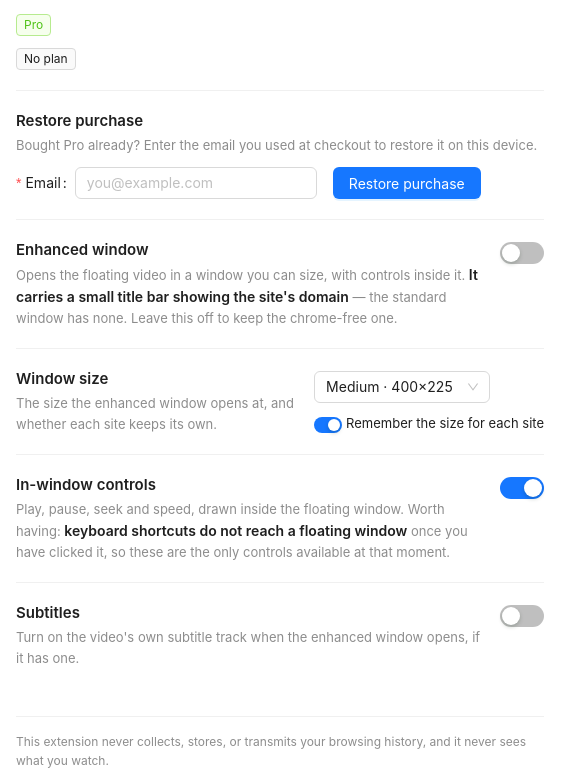
Test: Pro rows — window size › offers the three presets with their real pixel dimensions
This screenshot has width=561, height=773.
(page scrolled)
Press the mouse on the dropdown named "Window size" at (389, 387), box left=326, top=378, right=453, bottom=396
(page scrolled)
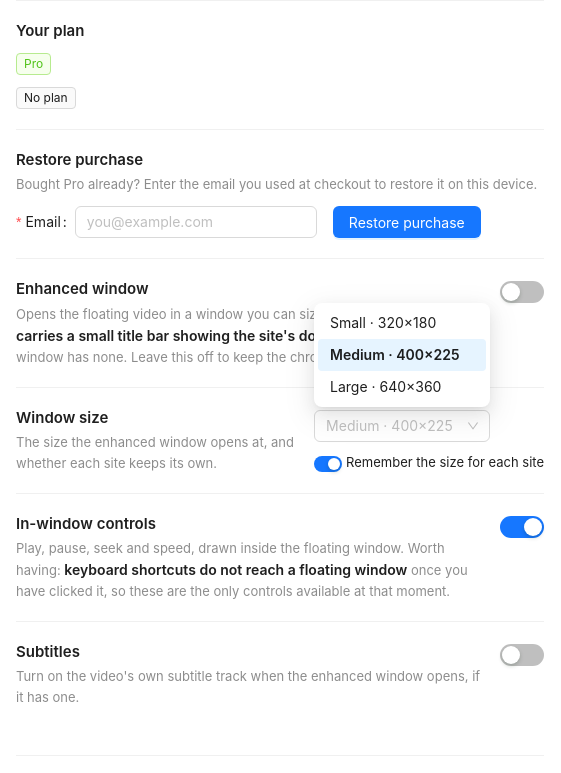
Result: the text "Small · 320×180" is shown at left=330, top=314, right=436, bottom=331
Result: the text "Large · 640×360" is shown at left=330, top=378, right=442, bottom=395
